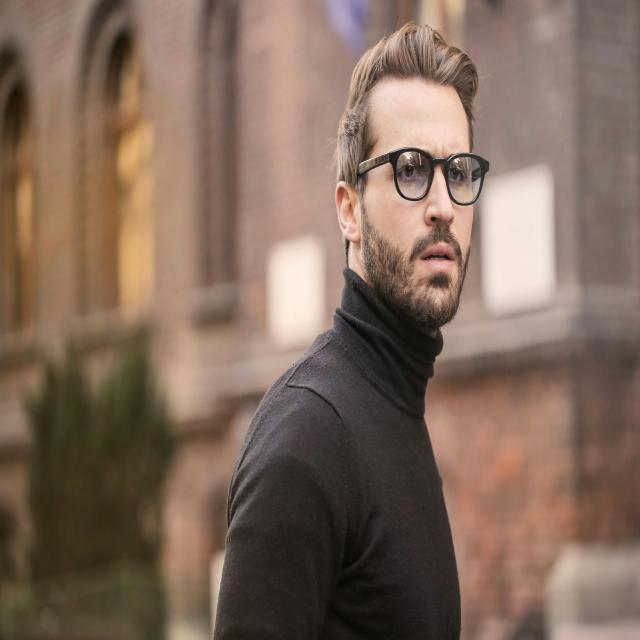human: (216, 32, 503, 640)
